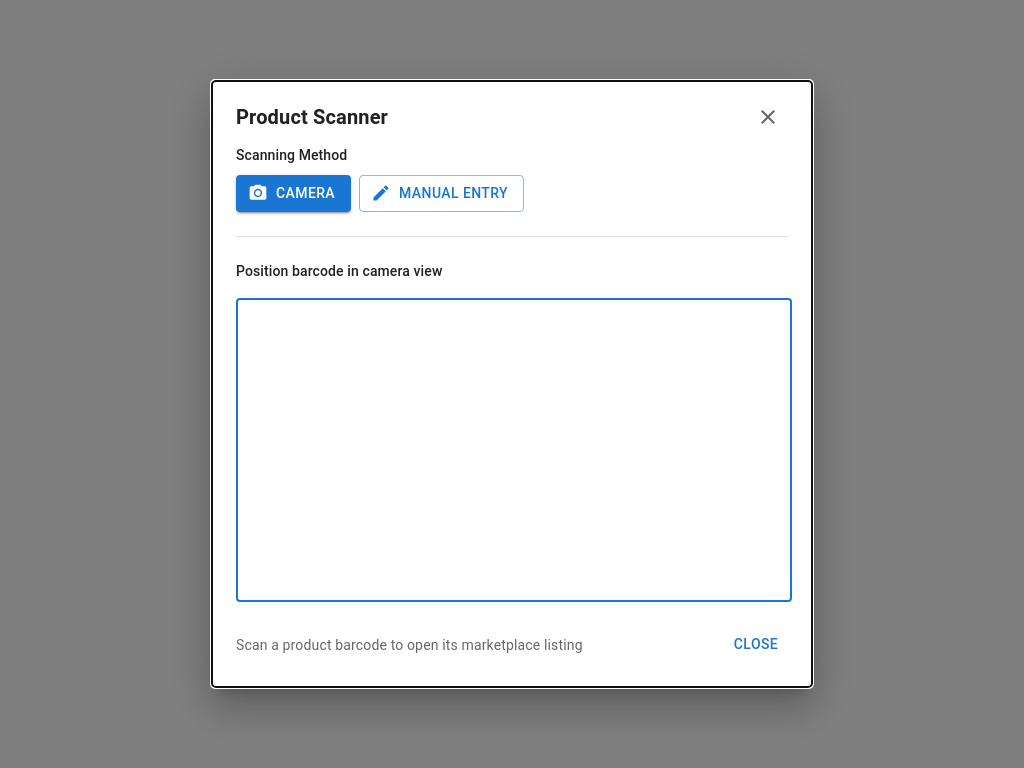
Test case: ProductIdentificationScanner › Mode Switching › should switch to manual mode when manual button is clicked
expect the heading "Position barcode in camera view" is shown: met, box [236,262,442,278]
Click the button "Manual Entry". click: (442, 193)
box: [359,175,524,212]
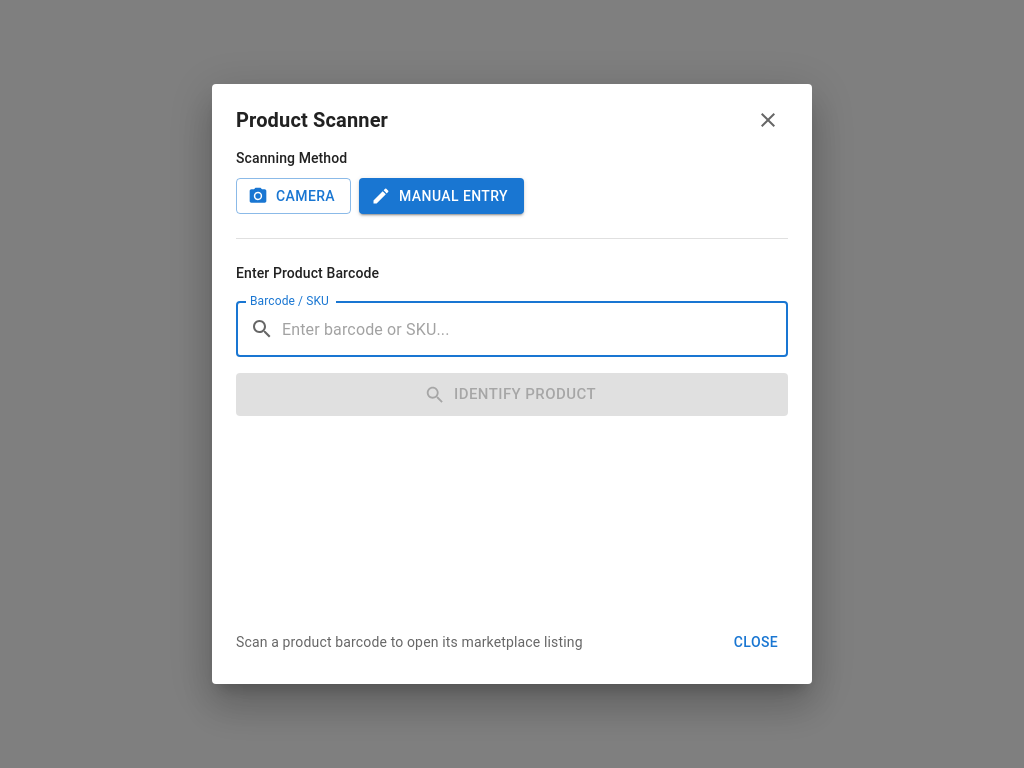
expect the heading "Position barcode in camera view" is gone: met
expect the heading "Enter Product Barcode" is shown: met, box [236,266,379,282]
expect the field labelled "Barcode / SKU" is shown: met, box [282,301,788,357]
